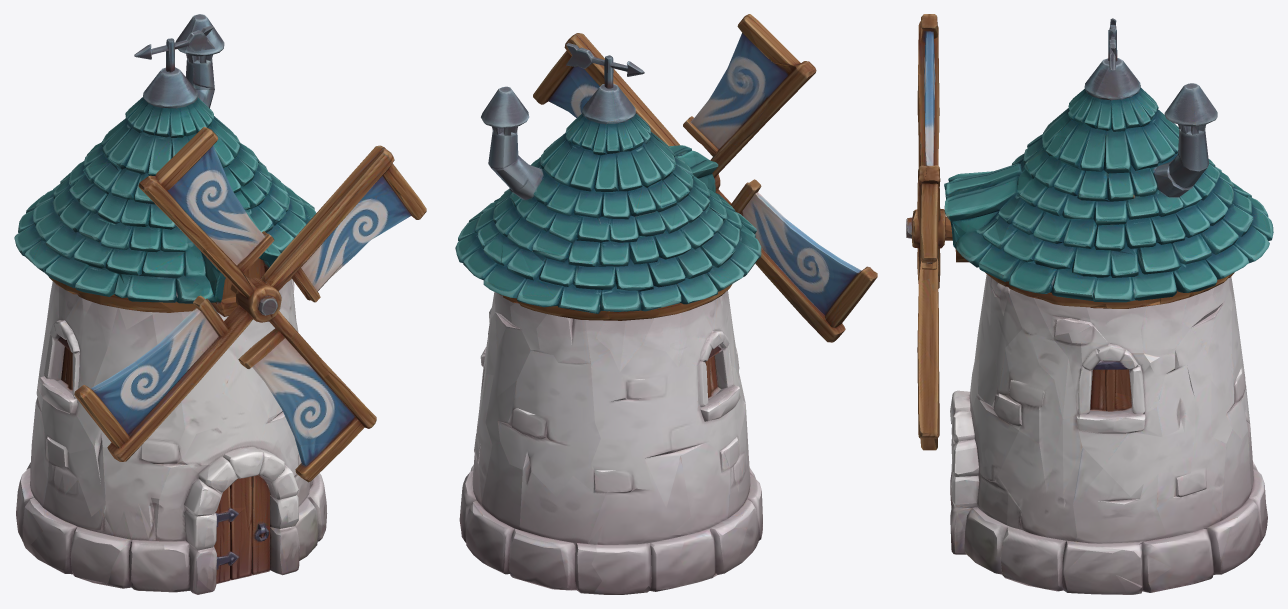
The model's file is windmill.fbx.
3 views of the same model, side by side, from view 1: azimuth 30°, elevation 25°; view 2: azimuth 150°, elevation 25°; view 3: azimuth 270°, elevation 25° (orthographic). The views are drawn at different scales.
Visible parts, largest first — view 1: windmill; view 2: windmill; view 3: windmill.
Part boxes in pixels (x1,y1,x2,y2): windmill: (14, 14, 426, 594); windmill: (455, 14, 877, 594); windmill: (906, 14, 1273, 594).
Size of the model in its own units: 7.42 by 10 by 6.61.
